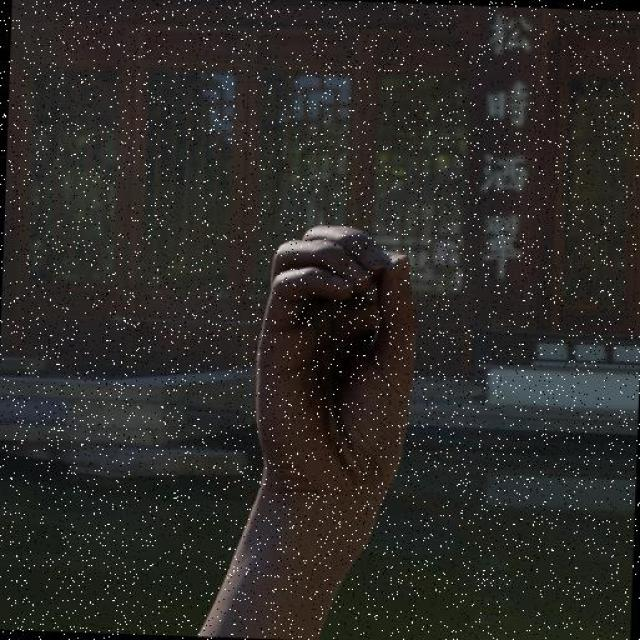O: (244, 213, 428, 544)
